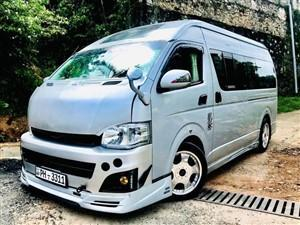car: (19, 19, 282, 220)
